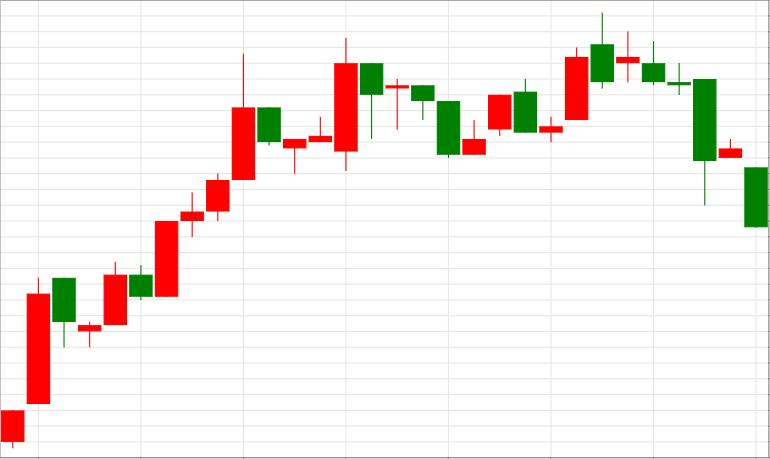hanging_man_fall: (78, 38, 383, 347)
